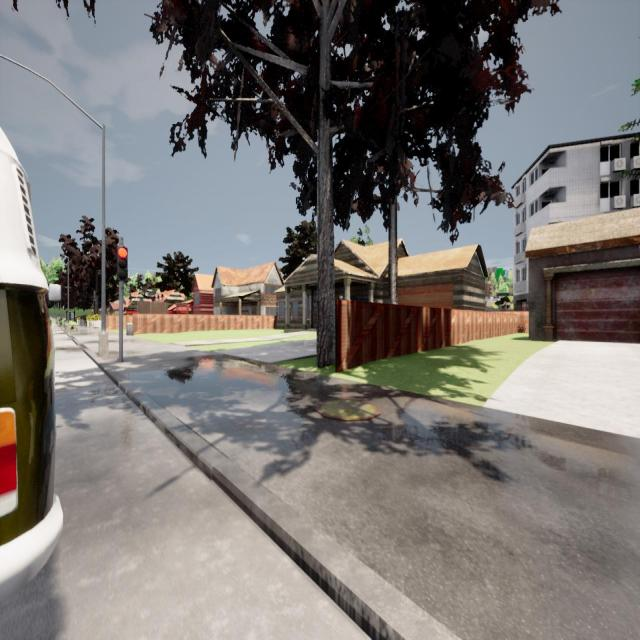Vehicle: (0, 120, 66, 599)
traffic_light: (116, 246, 128, 282)
